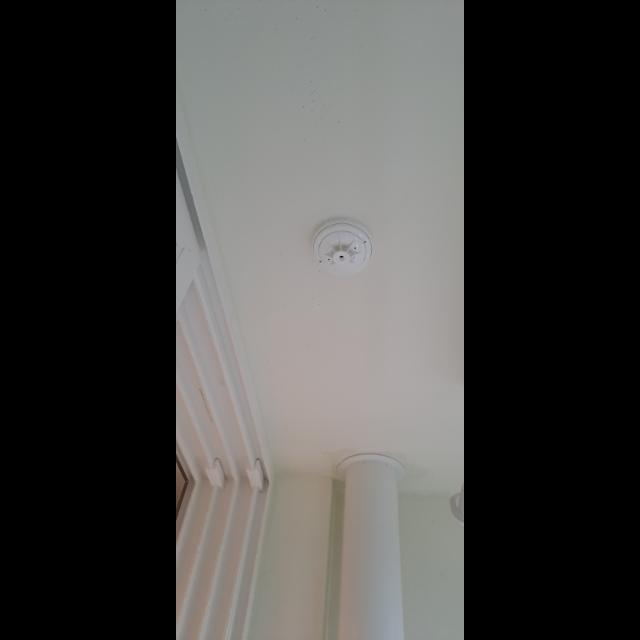Smoke-Detector: (311, 220, 373, 278)
